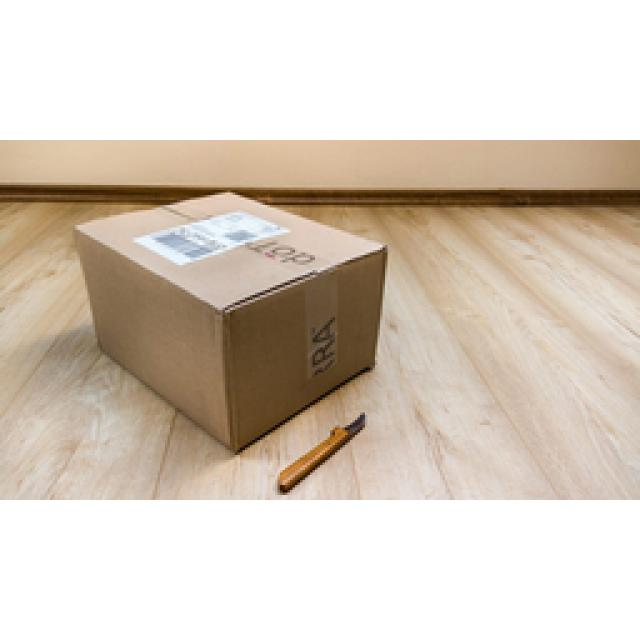cardboard: (72, 192, 385, 448), (0, 140, 638, 190)
